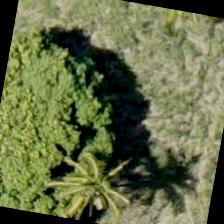Kelapa_Sawit: (44, 135, 148, 223), (123, 2, 221, 70)
